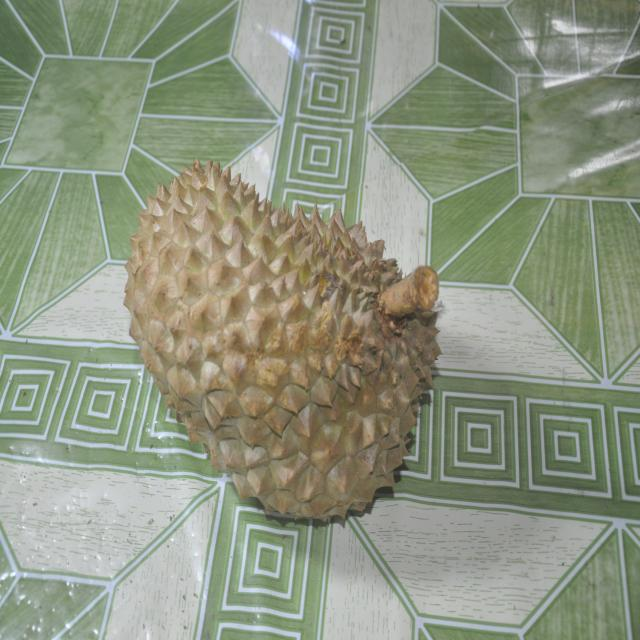mature: (124, 159, 441, 521)
